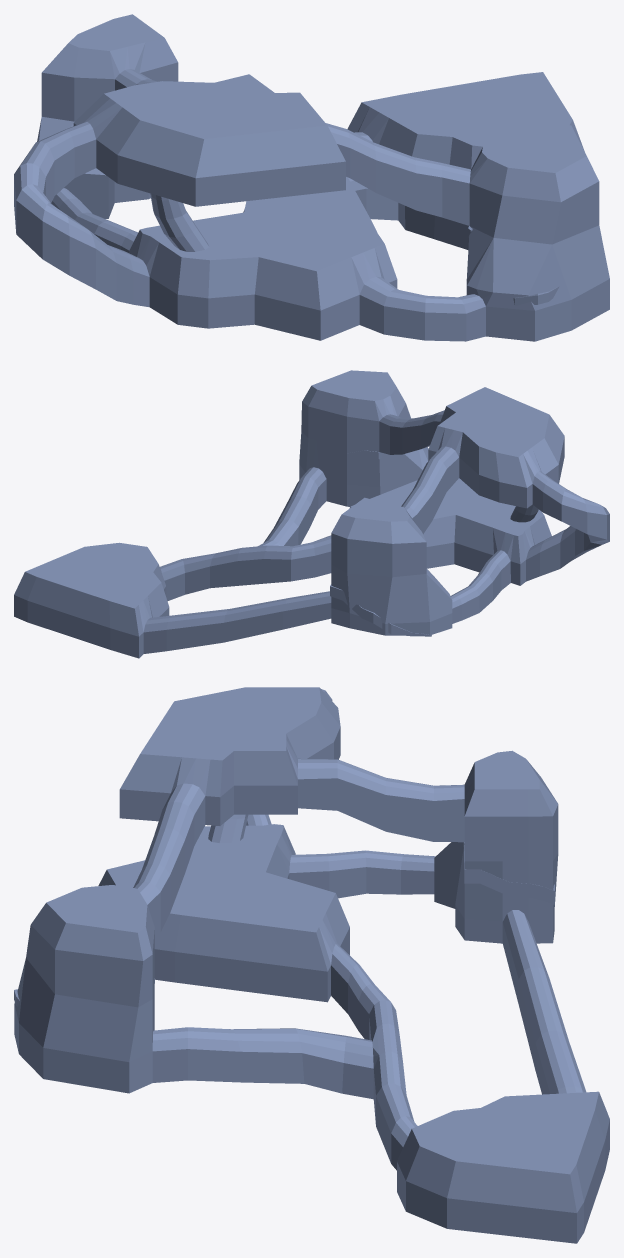
The model's file is MapModel(SeperateRooms).fbx.
3 renders of one model, top to bottom at view 1: azimuth 30°, elevation 25°; view 2: azimuth 150°, elevation 25°; view 3: azimuth 270°, elevation 25°, orthographic. The views are drawn at different scales.
Parts seen in each view (by area): view 1: Halls, MainRoom, BedRoom, VertRoom2, BackRoom, VertRoom1; view 2: Halls, VertRoom1, BackRoom, VertRoom2, BedRoom, MainRoom; view 3: Halls, BackRoom, VertRoom2, MainRoom, BedRoom, VertRoom1.
Part boxes in pixels (x1=…): Halls: x1=14, y1=69, x2=485, y2=341; MainRoom: x1=128, y1=177, x2=397, y2=340; BedRoom: x1=73, y1=74, x2=345, y2=206; VertRoom2: x1=466, y1=125, x2=609, y2=341; BackRoom: x1=347, y1=72, x2=584, y2=169; VertRoom1: x1=37, y1=14, x2=178, y2=218; Halls: x1=143, y1=410, x2=609, y2=653; VertRoom1: x1=330, y1=497, x2=452, y2=636; BackRoom: x1=14, y1=542, x2=169, y2=658; VertRoom2: x1=299, y1=370, x2=428, y2=506; BedRoom: x1=428, y1=387, x2=564, y2=508; MainRoom: x1=349, y1=478, x2=551, y2=585; Halls: x1=133, y1=689, x2=586, y2=1170; BackRoom: x1=397, y1=1091, x2=609, y2=1243; VertRoom2: x1=14, y1=885, x2=154, y2=1093; MainRoom: x1=98, y1=824, x2=349, y2=1002; BedRoom: x1=119, y1=687, x2=340, y2=825; VertRoom1: x1=434, y1=750, x2=558, y2=943.
Bounding box in the file's own units: 10157 × 7607 × 3837.
